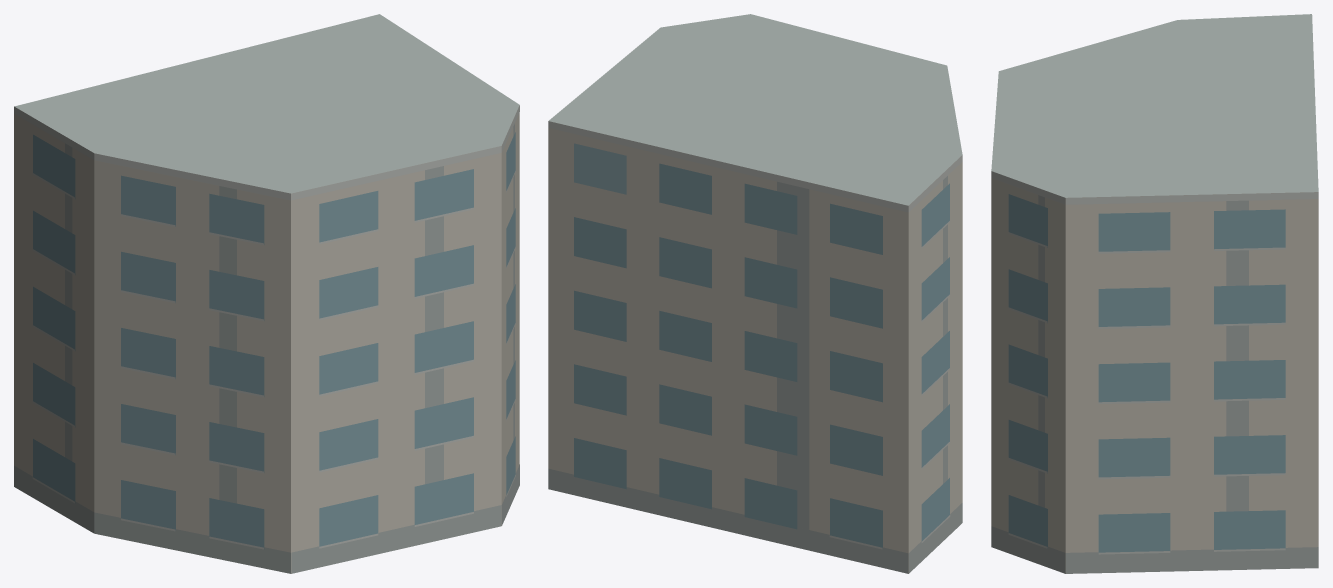
File: survey-upis-32946445.glb
The picture shows the model from 3 angles, left to right: view 1: azimuth 30°, elevation 25°; view 2: azimuth 150°, elevation 25°; view 3: azimuth 270°, elevation 25°; orthographic projection. The views are drawn at different scales.
Visible parts, largest first — view 1: survey-upis-32946445.tmp; view 2: survey-upis-32946445.tmp; view 3: survey-upis-32946445.tmp.
Boxes of the visible parts, x1,y1,x2,y2 form: survey-upis-32946445.tmp: (14,14,519,573); survey-upis-32946445.tmp: (548,14,962,573); survey-upis-32946445.tmp: (991,14,1318,573).
Bounding box in the file's own units: 13.85 × 13.2 × 10.43.
